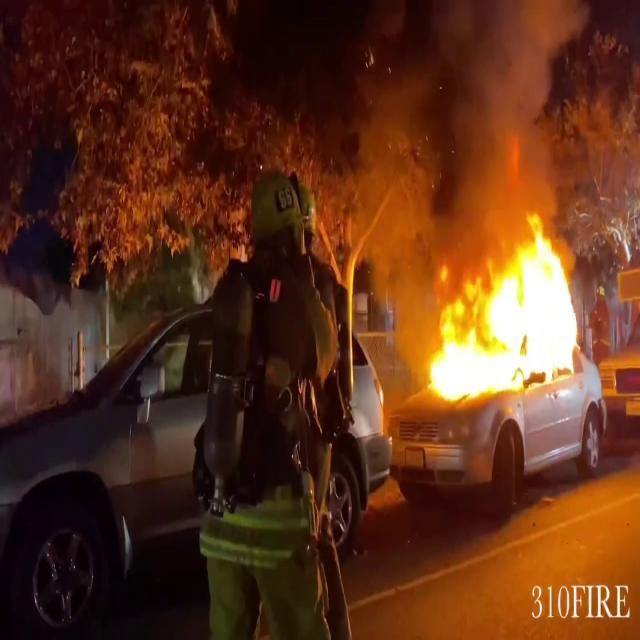Fire: (411, 209, 587, 402)
Smoke: (266, 0, 580, 260)
